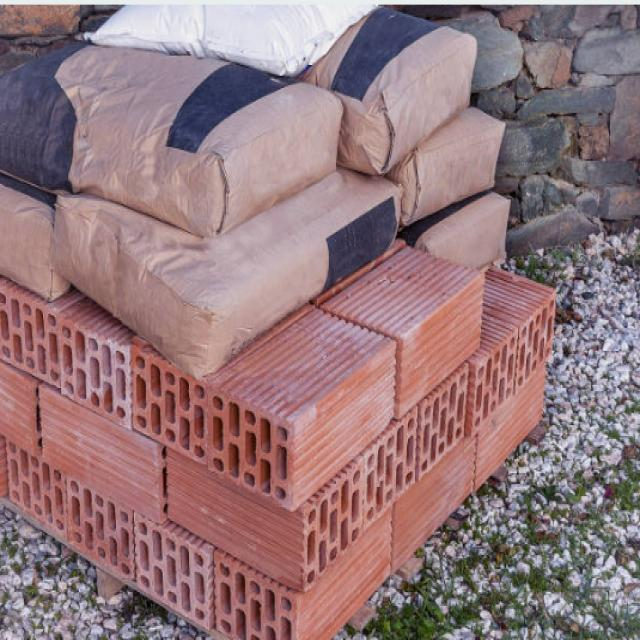KantongSemen: (0, 4, 514, 384)
